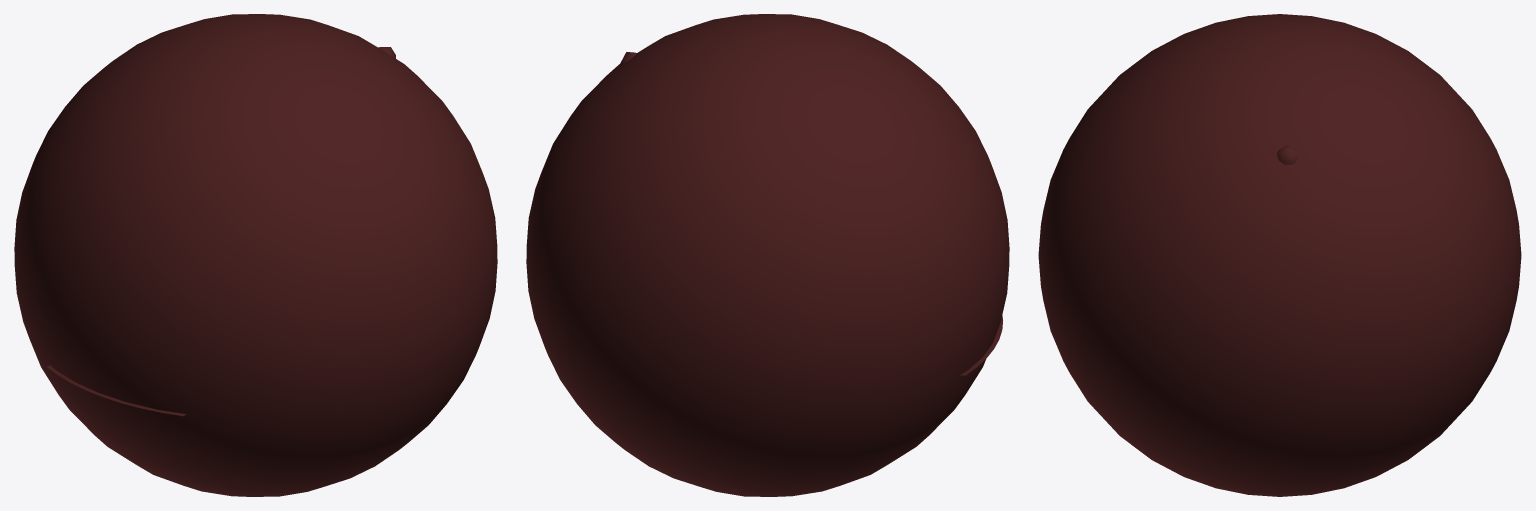
File: realivation_icon.fbx
3 views of the same model, side by side, from view 1: azimuth 30°, elevation 25°; view 2: azimuth 150°, elevation 25°; view 3: azimuth 270°, elevation 25° (orthographic).
Visible parts, largest first — view 1: Roundcube; view 2: Roundcube; view 3: Roundcube.
Part boxes in pixels (x1=…): Roundcube: x1=14, y1=14, x2=497, y2=496; Roundcube: x1=526, y1=14, x2=1009, y2=496; Roundcube: x1=1038, y1=14, x2=1521, y2=496.
Bounding box in the file's own units: 226 × 226 × 226.
